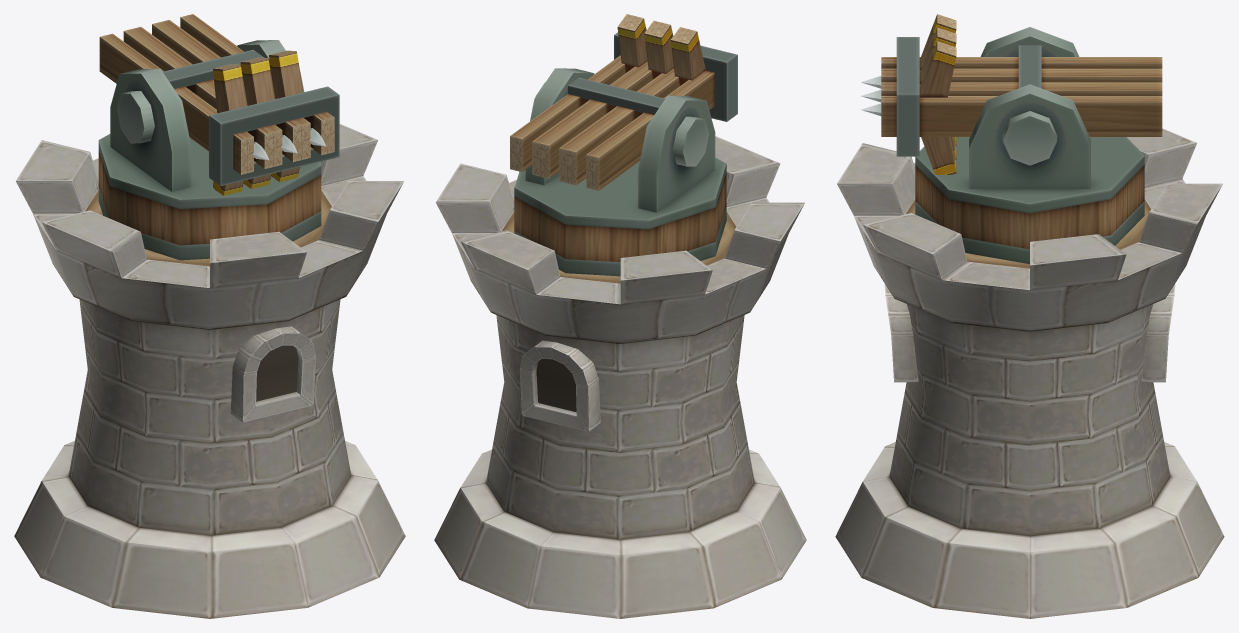
Rendered from Tower01.FBX.
3 renders of one model, left to right at view 1: azimuth 30°, elevation 25°; view 2: azimuth 150°, elevation 25°; view 3: azimuth 270°, elevation 25°, orthographic. The views are drawn at different scales.
Visible parts, largest first — view 1: Tower, ArrowMachineBar, ArrowMachine; view 2: Tower, ArrowMachineBar, ArrowMachine; view 3: Tower, ArrowMachineBar, ArrowMachine.
Boxes of the visible parts, box(x1,y1,x2,y2) form: Tower: box(14, 124, 405, 618); ArrowMachineBar: box(98, 40, 321, 260); ArrowMachine: box(99, 14, 339, 195); Tower: box(434, 136, 806, 618); ArrowMachineBar: box(514, 68, 726, 276); ArrowMachine: box(510, 14, 737, 190); Tower: box(835, 128, 1224, 618); ArrowMachineBar: box(915, 27, 1144, 264); ArrowMachine: box(881, 14, 1162, 174).
Bounding box in the file's own units: 270 × 387 × 270.
